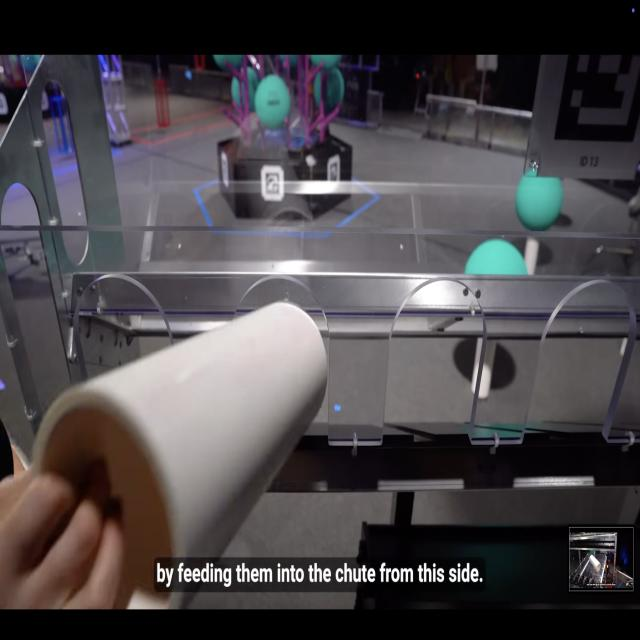algae: (463, 233, 530, 288), (514, 163, 566, 231), (254, 71, 294, 126), (315, 66, 345, 113), (232, 68, 262, 109), (214, 49, 248, 69), (310, 46, 342, 67)
coral: (34, 296, 348, 610), (470, 314, 498, 402), (522, 225, 541, 283)
